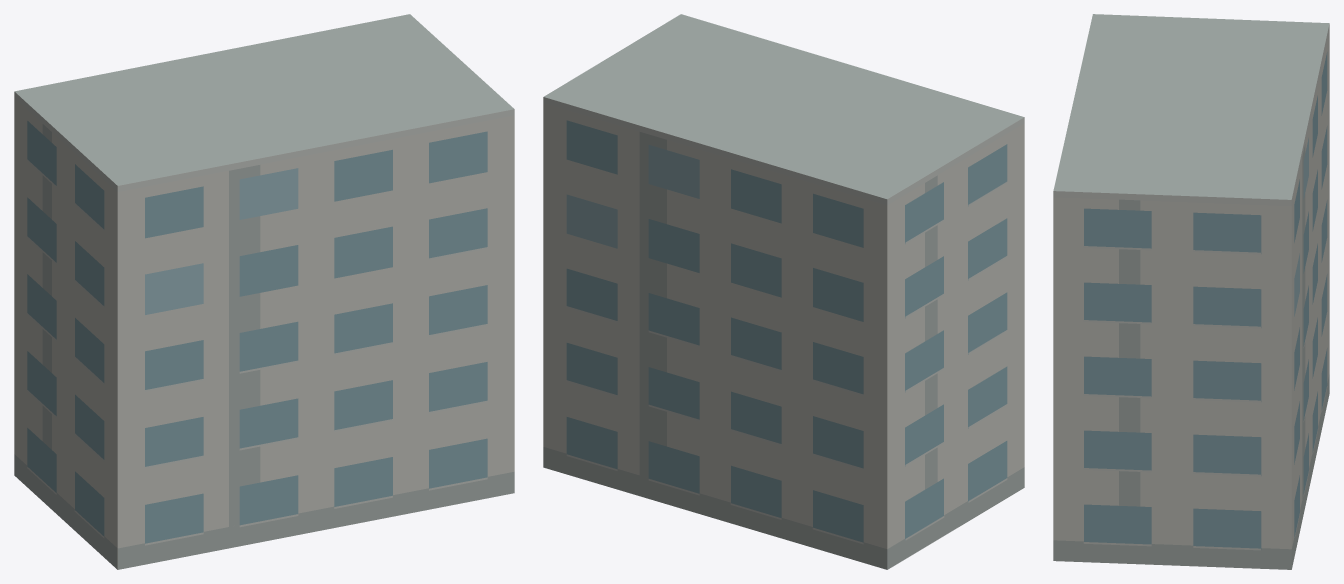
Rendered from survey-upis-32548049.glb.
3 views of the same model, side by side, from view 1: azimuth 30°, elevation 25°; view 2: azimuth 150°, elevation 25°; view 3: azimuth 270°, elevation 25° (orthographic). The views are drawn at different scales.
Parts seen in each view (by area): view 1: survey-upis-32548049.tmp; view 2: survey-upis-32548049.tmp; view 3: survey-upis-32548049.tmp.
Boxes of the visible parts, x1=… form: survey-upis-32548049.tmp: x1=14, y1=14, x2=514, y2=569; survey-upis-32548049.tmp: x1=543, y1=14, x2=1024, y2=569; survey-upis-32548049.tmp: x1=1053, y1=14, x2=1329, y2=569.
Bounding box in the file's own units: 15.91 × 14.75 × 9.99.
